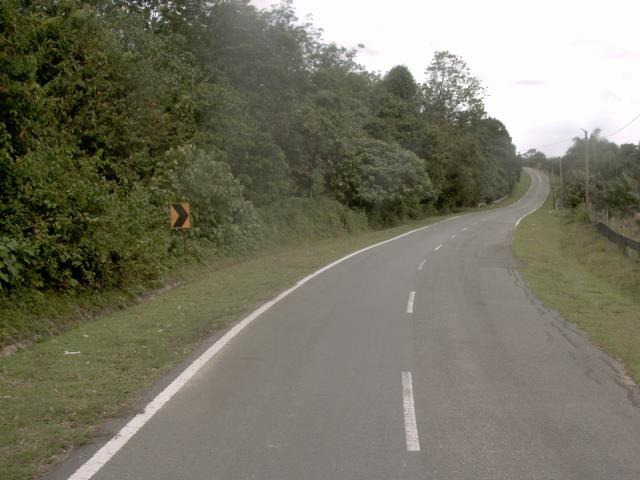traffic_sign: (163, 195, 197, 238)
